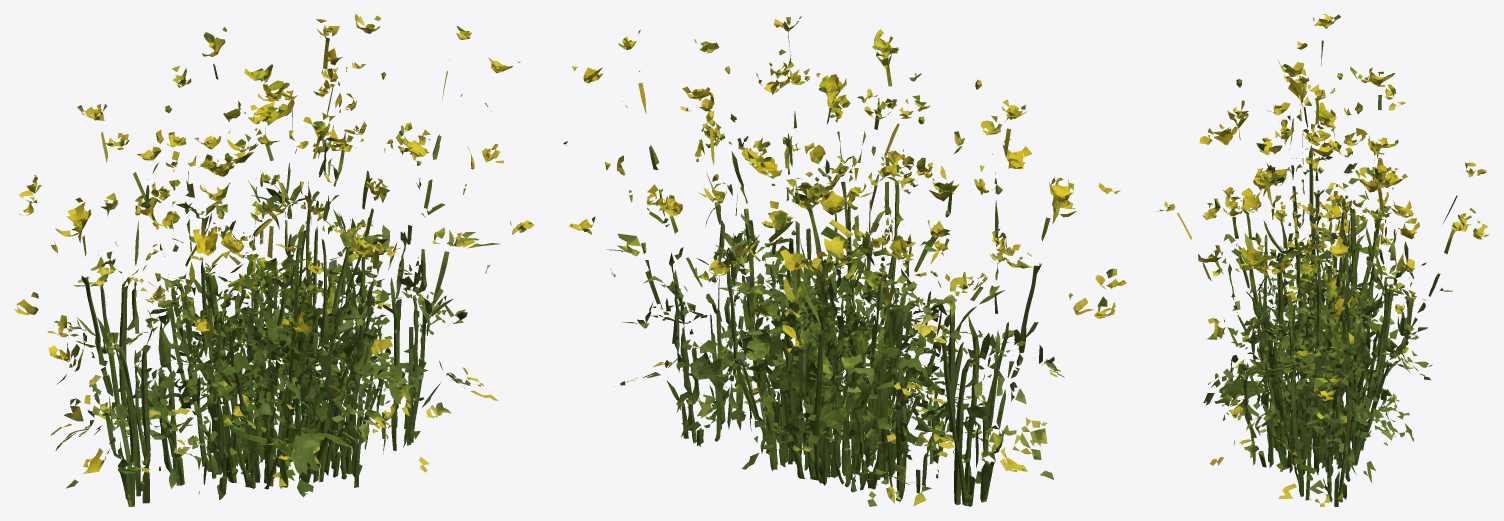
The model's file is meadows_flowers_buttercup.glb.
The picture shows the model from 3 angles, left to right: view 1: azimuth 30°, elevation 25°; view 2: azimuth 150°, elevation 25°; view 3: azimuth 270°, elevation 25°; orthographic projection. The views are drawn at different scales.
Parts seen in each view (by area): view 1: Mesh_0; view 2: Mesh_0; view 3: Mesh_0.
Part boxes in pixels (x1,y1,x2,y2): Mesh_0: [14, 14, 534, 506]; Mesh_0: [563, 16, 1126, 506]; Mesh_0: [1155, 14, 1489, 506].
Bounding box in the file's own units: 1.88 × 1.47 × 1.17.
1 material, 1 textured.
